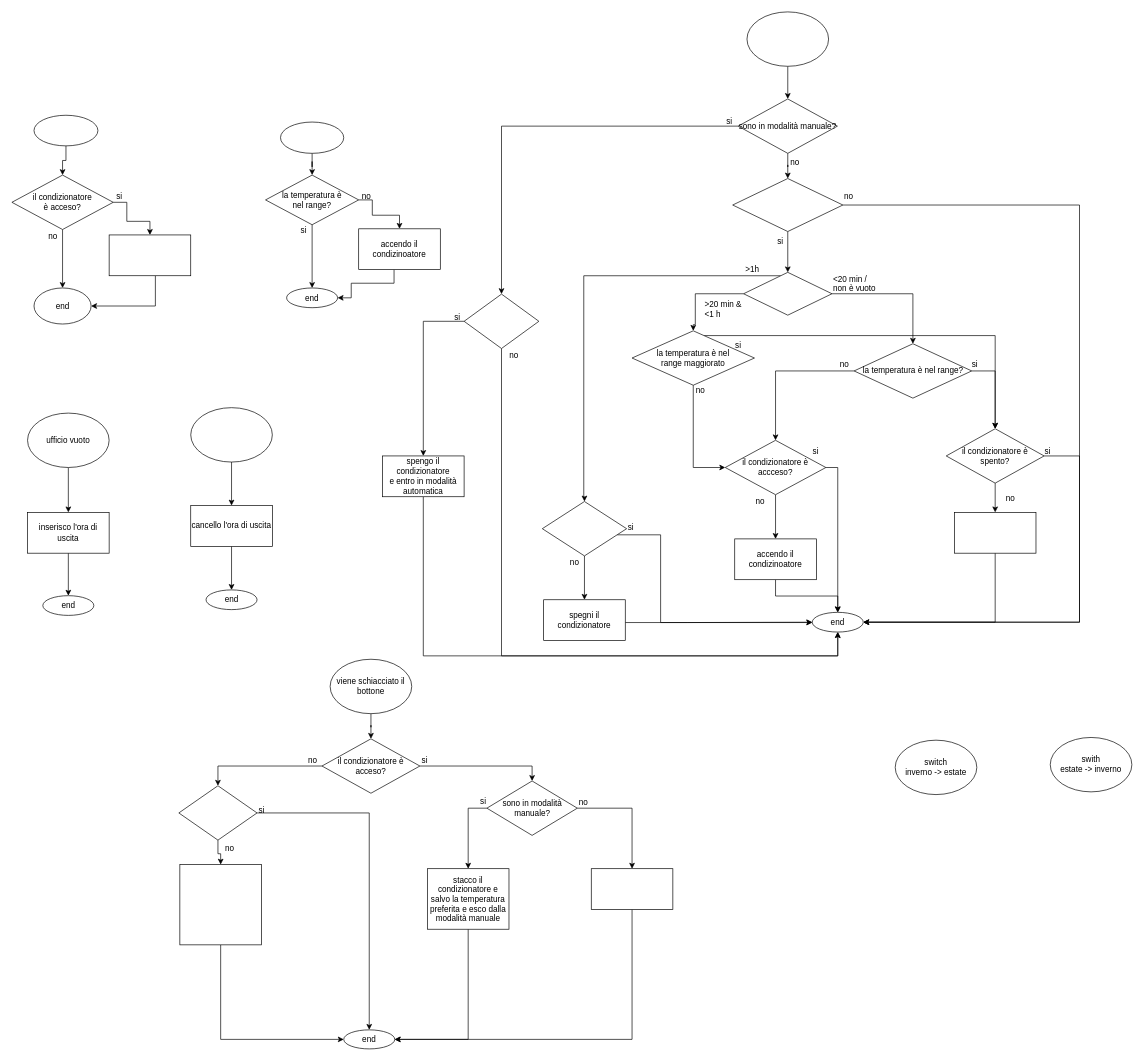
This 1144x1061 diagram has some shape labels left out. Here are the shapes that lost their labels. From the top down, the centre of each, then its label:
At point 787,38: "ricevo una temperatura".
At point 65,130: "viene aperta la finestra".
At point 312,137: "viene chiusa la finestra".
At point 787,205: "le finestre sono chiuse?".
At point 149,255: "spengo il condizionatore e esco da eventuale modalità manuale".
At point 787,293: "da quanto è vuoto l'ufficio?".
At point 501,320: "l'ufficio è vuoto da 30 minuti?".
At point 231,434: "entrato qualcuno in ufficio".
At point 584,528: "il condizionatore è spento".
At point 995,532: "spengo il condizionatore".
At point 217,812: "c'è una finestra aperta?".
At point 220,904: "accendo il condizionatore e passo in modalità manuale (se non ci sono già)".
At point 632,889: "spengo il condizinoatore e passo in modalità manuale".
